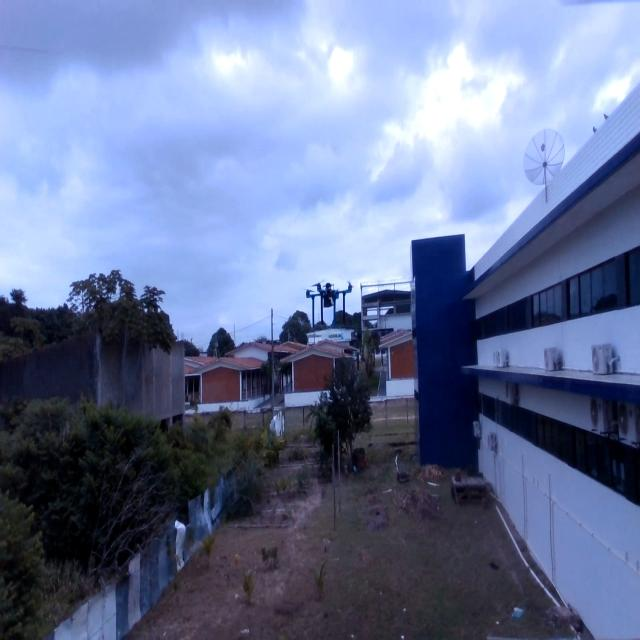-uav-: (295, 264, 360, 335)
